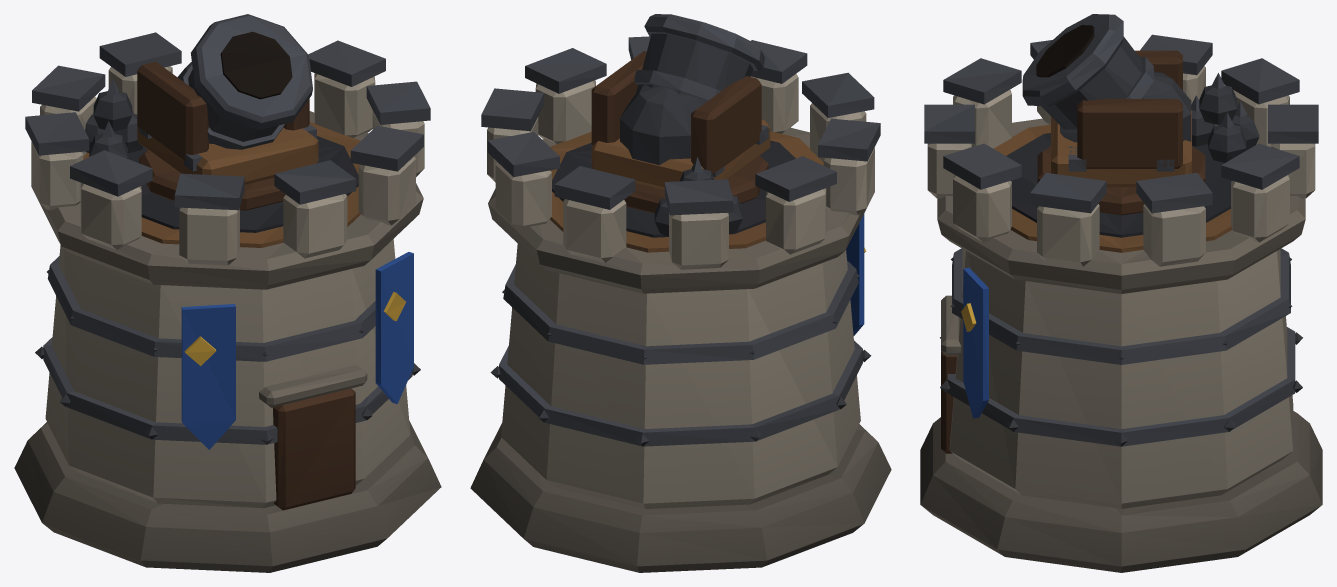
File: iron_mortar.glb
3 renders of one model, left to right at view 1: azimuth 30°, elevation 25°; view 2: azimuth 150°, elevation 25°; view 3: azimuth 270°, elevation 25°, orthographic.
Parts seen in each view (by area): view 1: iron_mortar; view 2: iron_mortar; view 3: iron_mortar.
Part boxes in pixels (x1=…): iron_mortar: x1=14, y1=14, x2=441, y2=572; iron_mortar: x1=470, y1=14, x2=891, y2=572; iron_mortar: x1=920, y1=14, x2=1322, y2=572.
Bounding box in the file's own units: 0.96 × 1.17 × 0.913.
